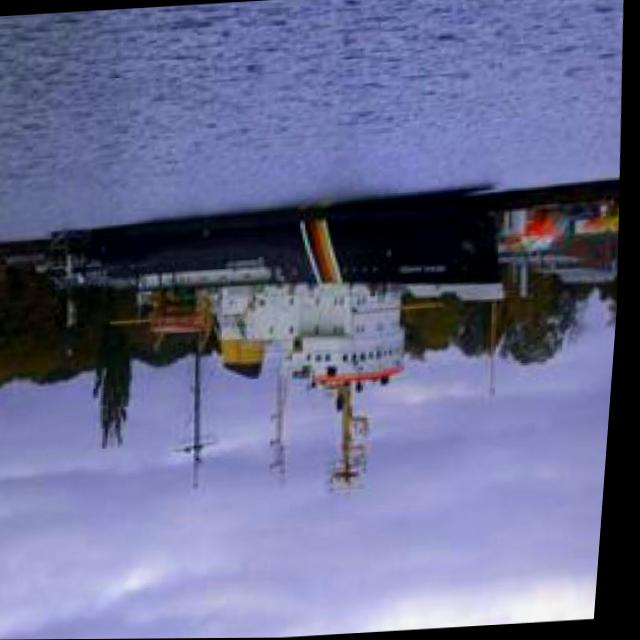ship2: (52, 195, 511, 491)
